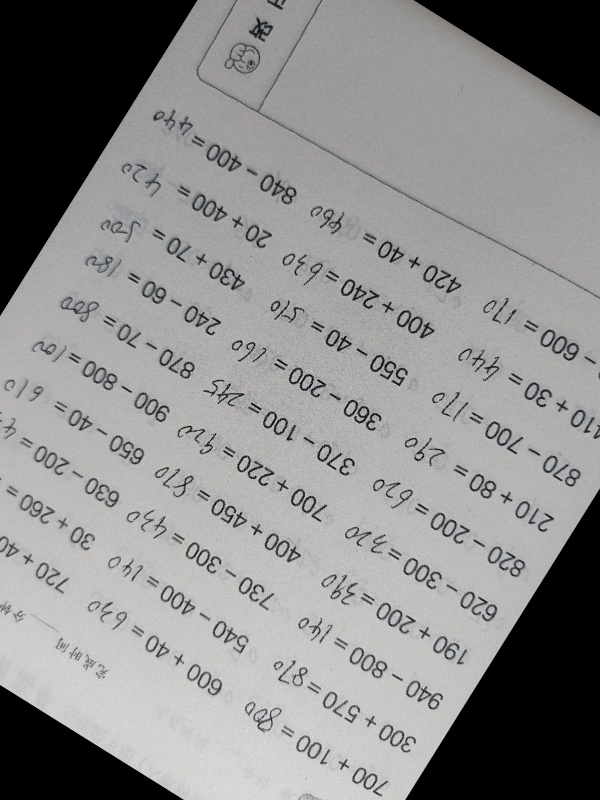equation: (316, 568, 470, 671), (239, 695, 393, 798), (281, 248, 436, 350), (230, 333, 385, 435), (44, 280, 199, 382), (94, 197, 248, 299), (375, 478, 529, 580), (177, 420, 331, 522), (153, 463, 307, 565), (128, 505, 282, 607), (265, 653, 419, 755), (429, 389, 584, 490), (148, 106, 302, 207), (70, 237, 224, 338), (203, 377, 357, 478), (348, 521, 502, 622), (292, 613, 446, 714), (76, 594, 230, 695), (99, 548, 252, 649), (311, 199, 465, 299), (121, 151, 275, 251), (403, 434, 557, 534), (258, 287, 411, 387), (21, 325, 174, 425), (0, 365, 149, 465), (457, 343, 600, 446), (0, 404, 127, 505), (485, 296, 600, 398), (0, 447, 100, 549), (0, 489, 76, 590)
